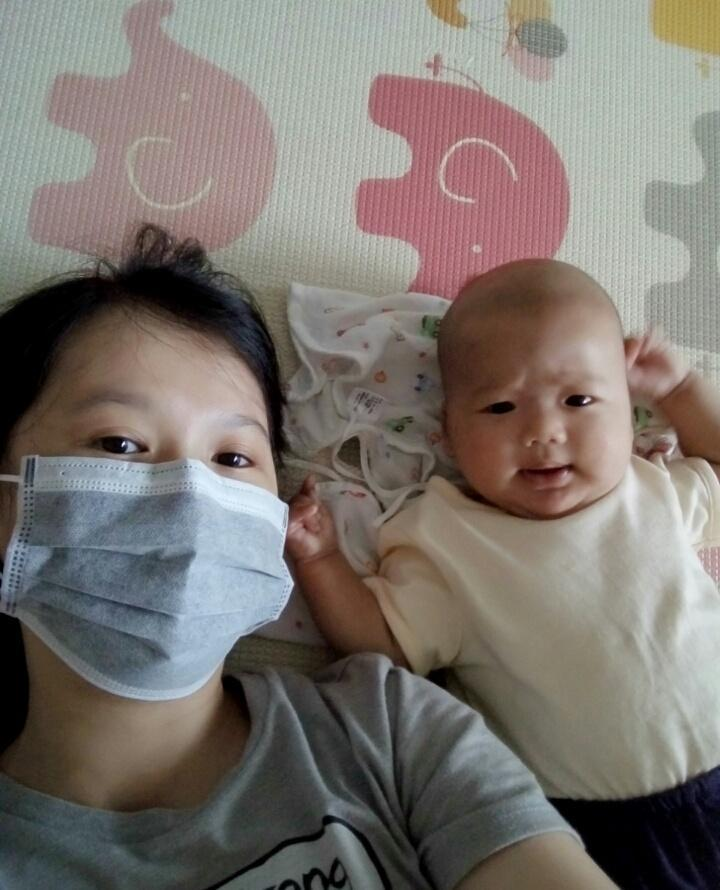NONE: (447, 335, 632, 521)
OK: (1, 373, 292, 694)
